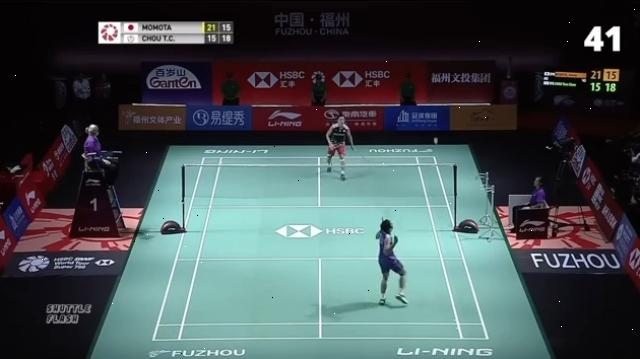Shuttlecock: (430, 136, 440, 148)
